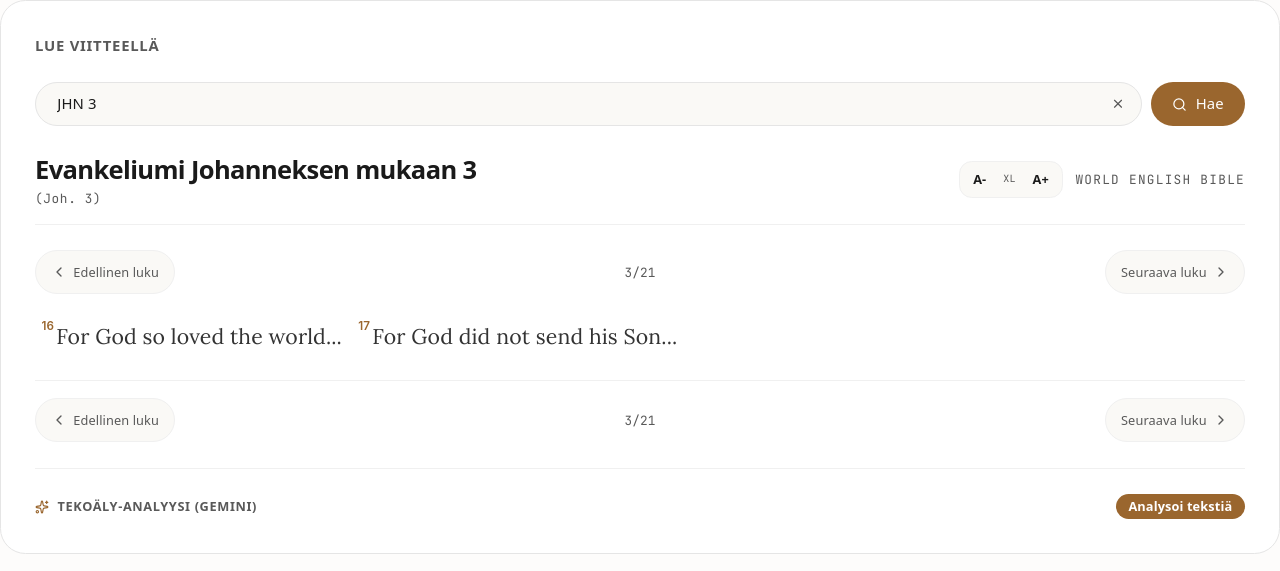
Test: VerseReader › isolates a single verse on click and shows back-navigation button
The width and height of the screenshot is (1280, 571).
// Click the first verse (JHN 3:16)
Click the button with class "cursor-pointer" that starts with "For God so loved the world...".
click(193, 336)  # box [35, 321, 352, 352]
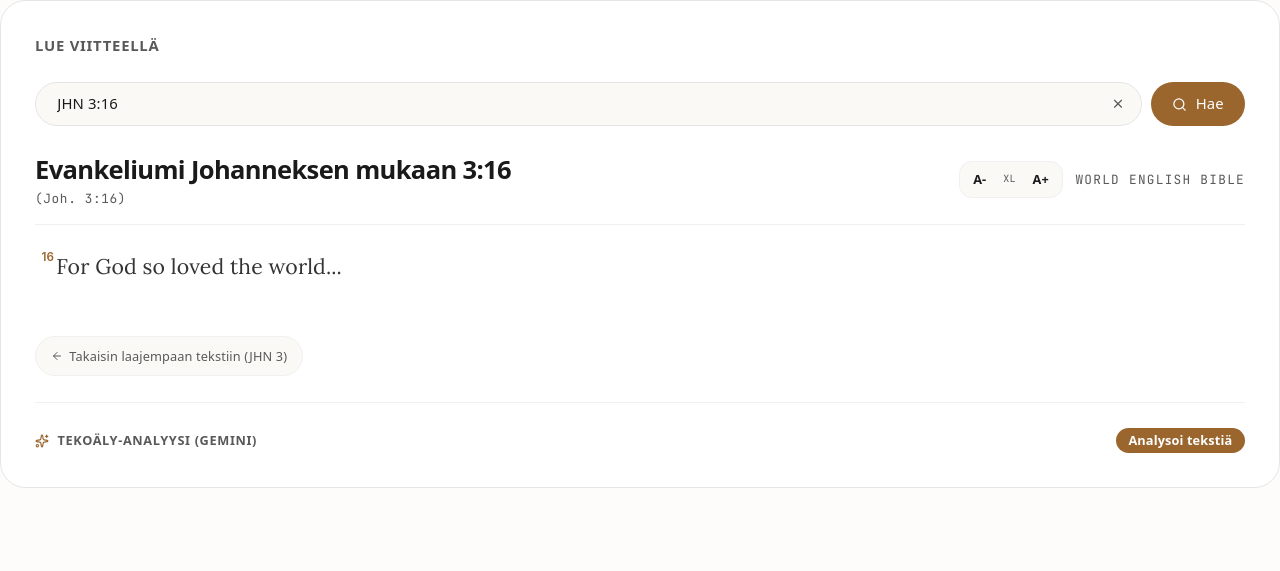
expect the text "Evankeliumi Johanneksen mukaan 3:16" is shown: met, box [35, 152, 511, 186]
expect the button "Takaisin laajempaan tekstiin (JHN 3)" is shown: met, box [35, 336, 303, 376]
